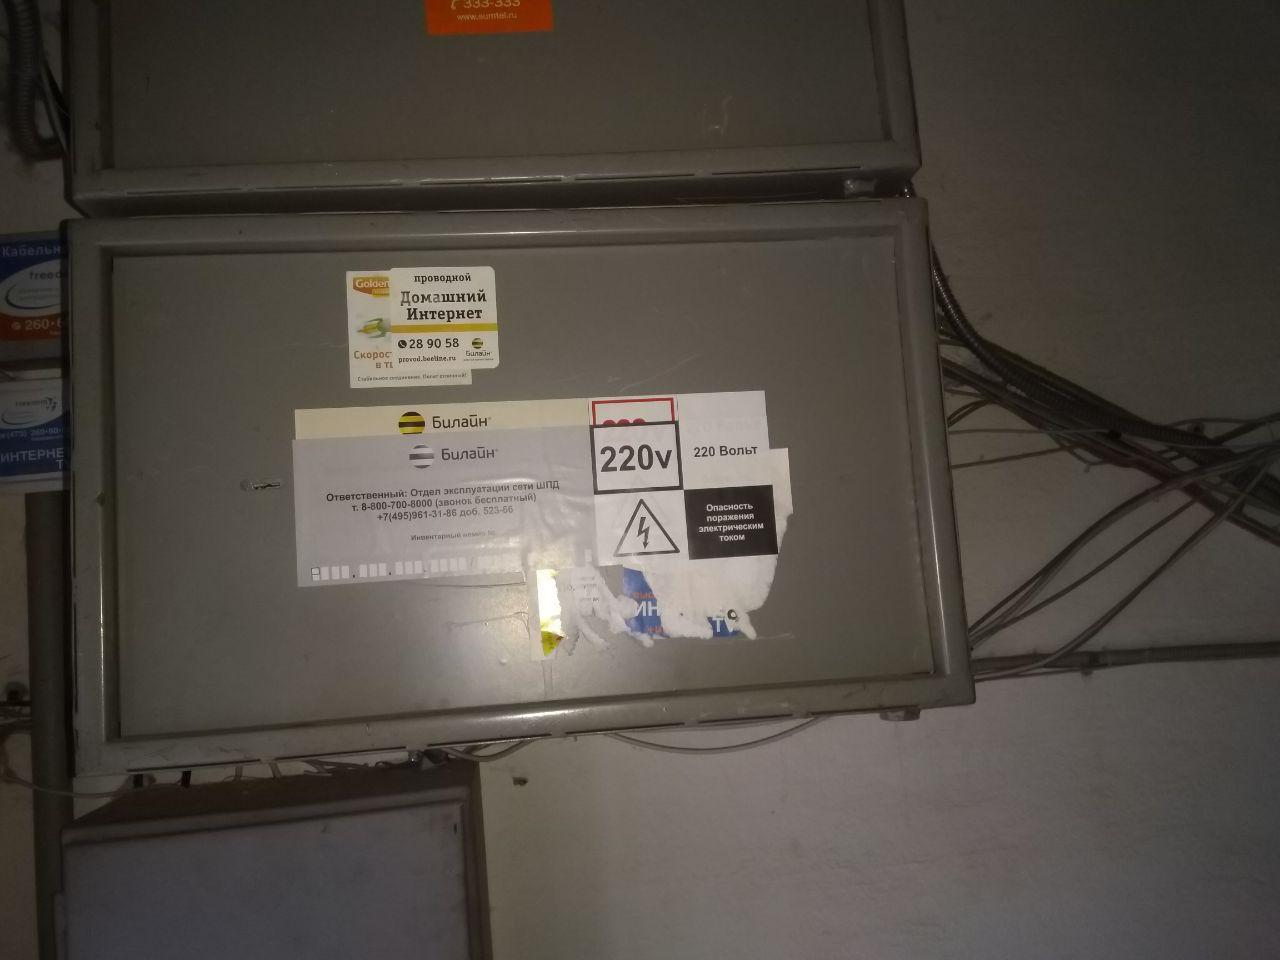e2-6u: (54, 182, 986, 786)
